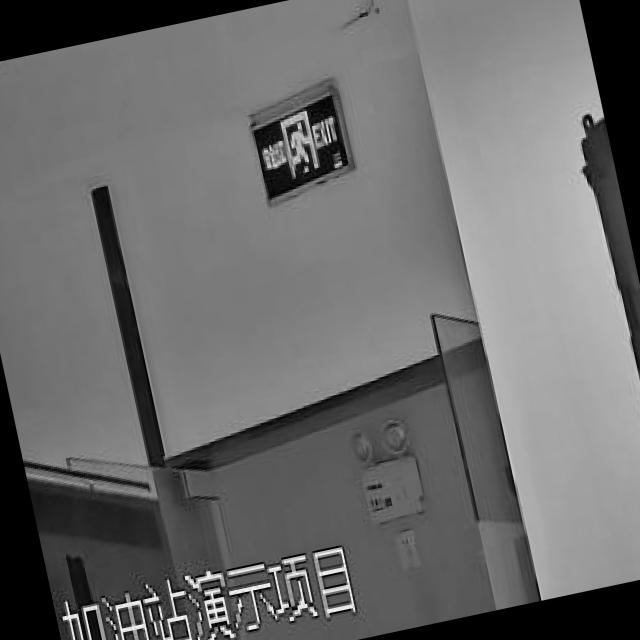Guns: (503, 58, 640, 511)
